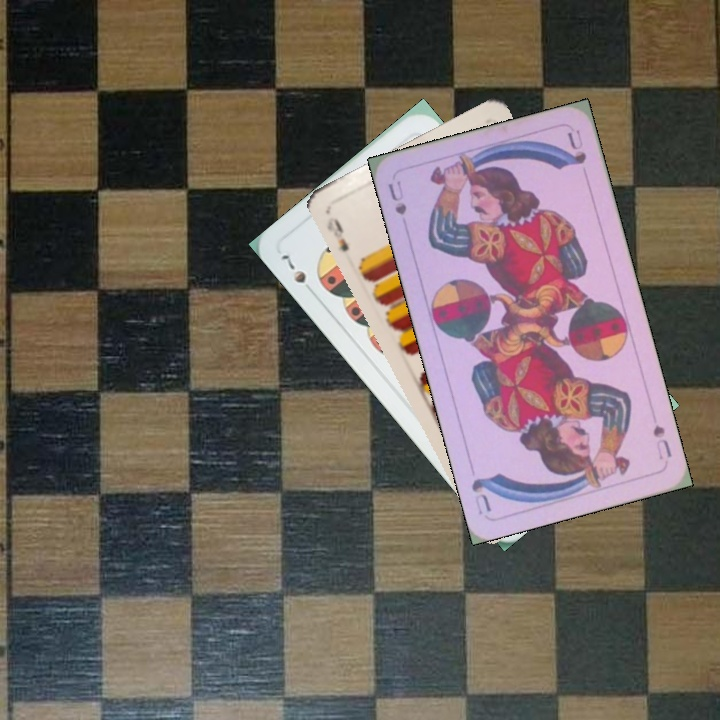E9: (322, 213, 352, 255)
S7: (277, 250, 309, 286)
SU: (649, 420, 675, 463), (384, 177, 409, 218)
